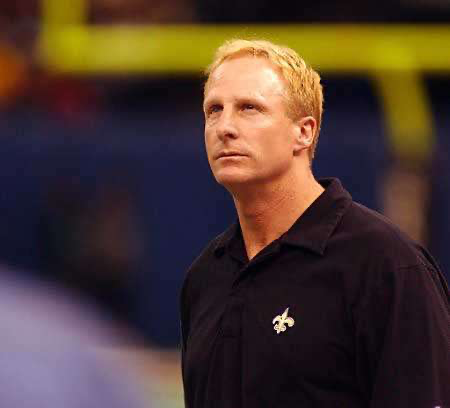Face: (196, 70, 302, 193)
